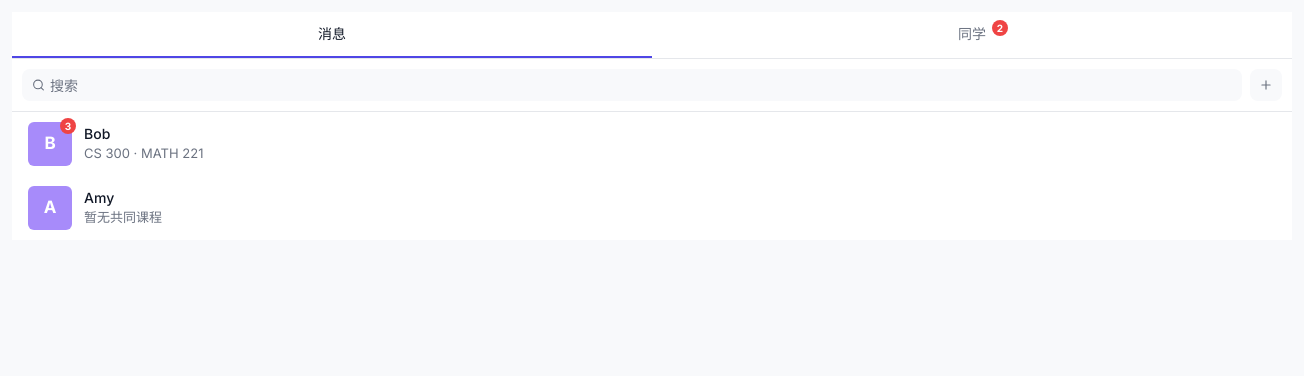
InboxList › 同学标签有新的朋友（带待处理数）、屏蔽与拉黑、我的好友
Click the tab "同学 2": [972, 35] box [652, 12, 1292, 58]
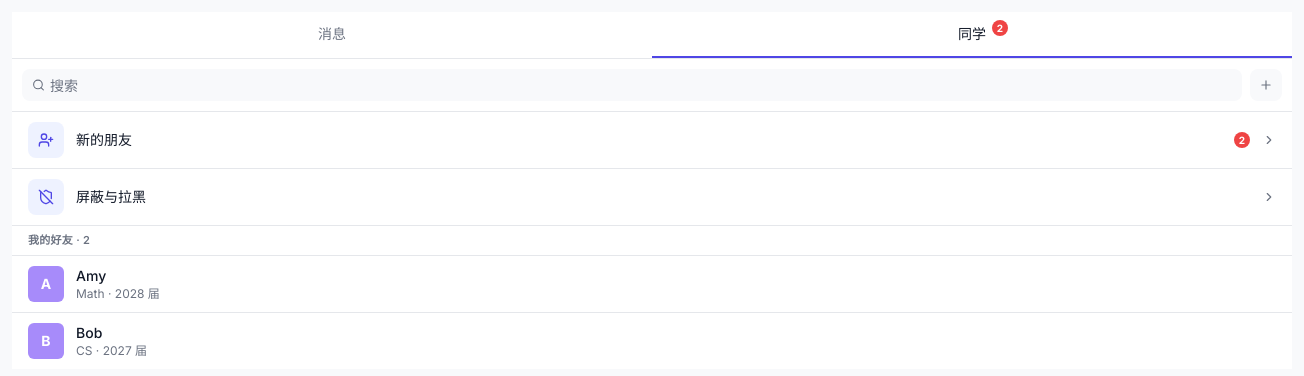
Result: the text "2" in the row of "新的朋友" is shown at [1239, 134, 1245, 146]
Result: the link "屏蔽与拉黑" is shown at [12, 169, 1292, 225]
Result: the text "我的好友 · 2" is shown at [12, 226, 1292, 256]
